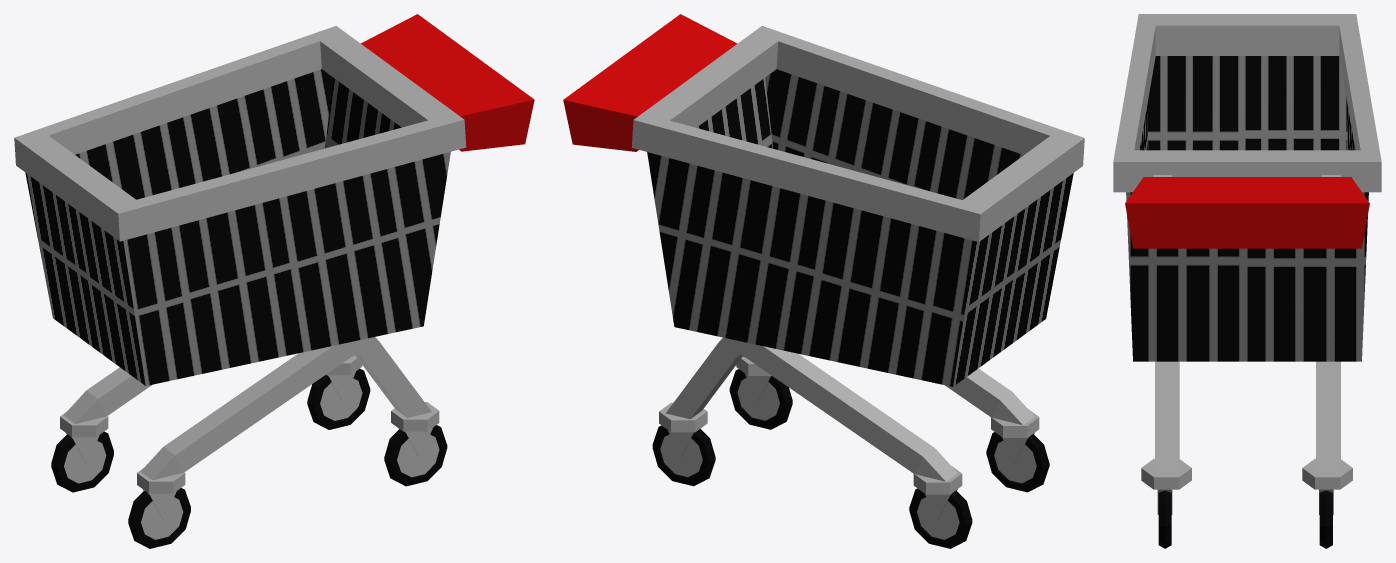
File: trolley.fbx
3 renders of one model, left to right at view 1: azimuth 30°, elevation 25°; view 2: azimuth 150°, elevation 25°; view 3: azimuth 270°, elevation 25°, orthographic. The views are drawn at different scales.
Visible parts, largest first — view 1: Bucket, Cube, Cube.002, Handle, Cube.001; view 2: Bucket, Cube, Cube.001, Handle, Cube.002; view 3: Bucket, Cube, Handle, Cube.002, Cube.001.
Boxes of the visible parts, x1,y1,x2,y2 form: Bucket: (25,69,450,385); Cube: (14,26,466,241); Cube.002: (128,337,447,548); Handle: (361,14,534,151); Cube.001: (51,355,370,492); Bucket: (647,69,1073,386); Cube: (631,26,1084,241); Cube.001: (652,337,972,548); Handle: (563,14,737,151); Cube.002: (729,356,1049,492); Bucket: (1126,56,1368,361); Cube: (1113,14,1381,192); Handle: (1125,177,1369,248); Cube.002: (1141,361,1191,548); Cube.001: (1302,361,1352,548).
Bounding box in the file's own units: 433 × 380 × 235.
